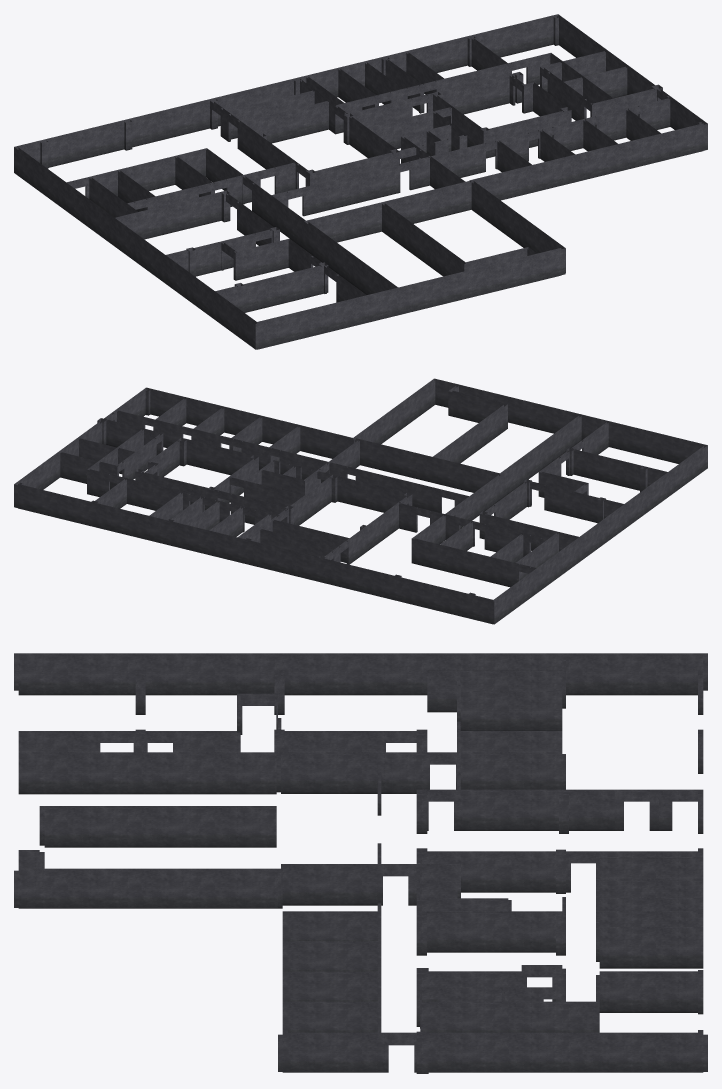
The model's file is b1f墙体.obj.
3 renders of one model, top to bottom at view 1: azimuth 30°, elevation 25°; view 2: azimuth 150°, elevation 25°; view 3: azimuth 270°, elevation 25°, orthographic. The views are drawn at different scales.
Parts seen in each view (by area): view 1: Line002; view 2: Line002; view 3: Line002.
Part boxes in pixels (x1,y1,x2,y2): Line002: [14, 14, 707, 349]; Line002: [14, 378, 707, 624]; Line002: [14, 653, 707, 1073].
Size of the model in its own units: 6171 by 300 by 4722.
